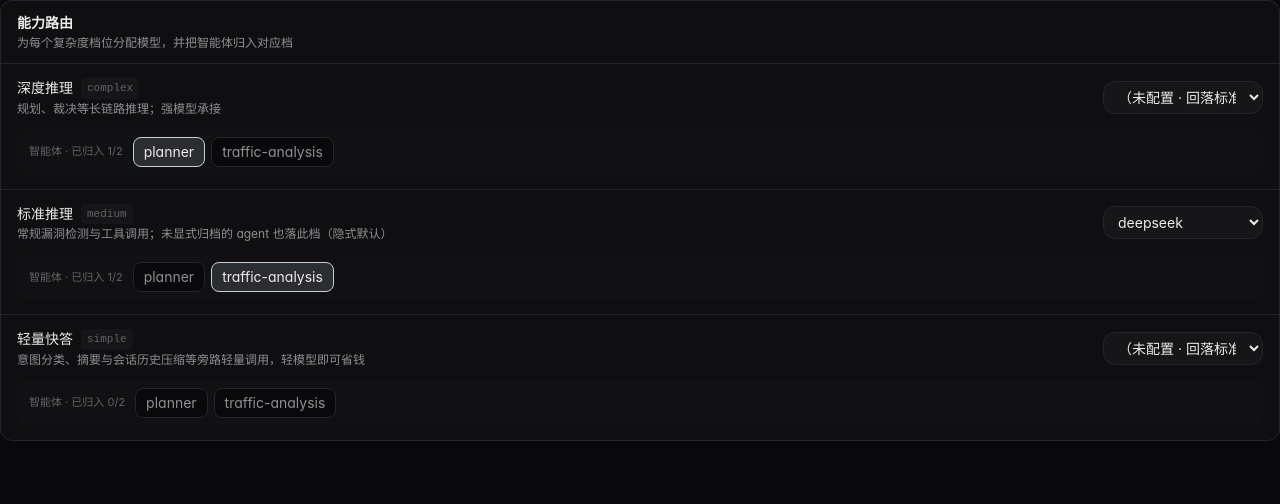
Test case: AssignmentView › 移档失败乐观回滚并在页面内回显原因（无 window.alert）
The width and height of the screenshot is (1280, 504).
Expected: the button "traffic-analysis" below "常规漏洞检测与工具调用；未显式归档的 agent 也落此档（隐式默认）" is shown, [211,262,334,292]
Click the button "traffic-analysis" below "意图分类、摘要与会话历史压缩等旁路轻量调用，轻模型即可省钱".
click(275, 402)  # box [214,388,336,418]
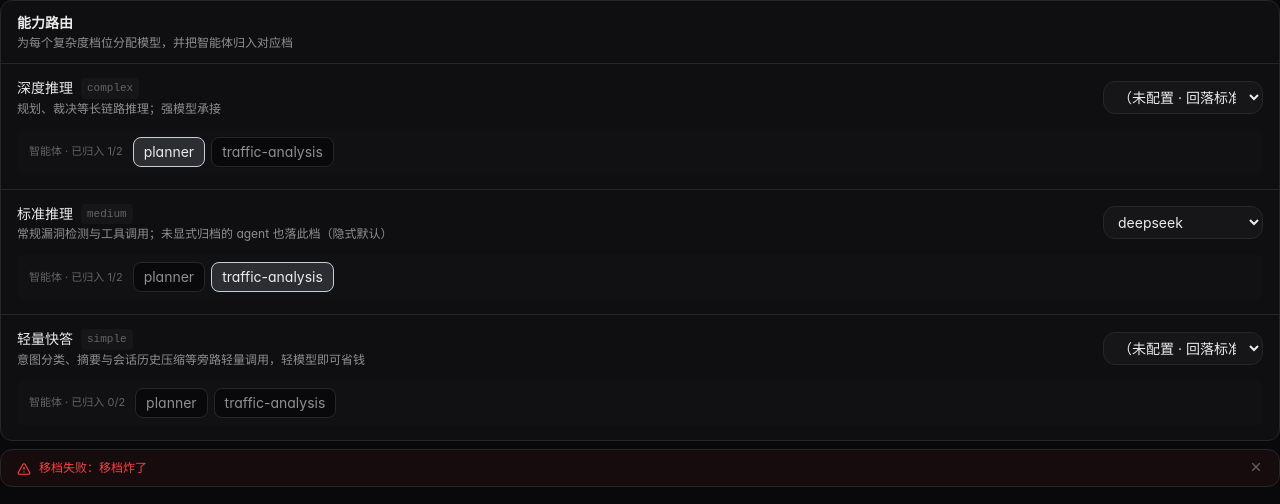
Expected: the button "traffic-analysis" below "常规漏洞检测与工具调用；未显式归档的 agent 也落此档（隐式默认）" is shown, [211,262,334,292]
Now the text "移档失败：移档炸了" is shown, box [39,460,147,474]
